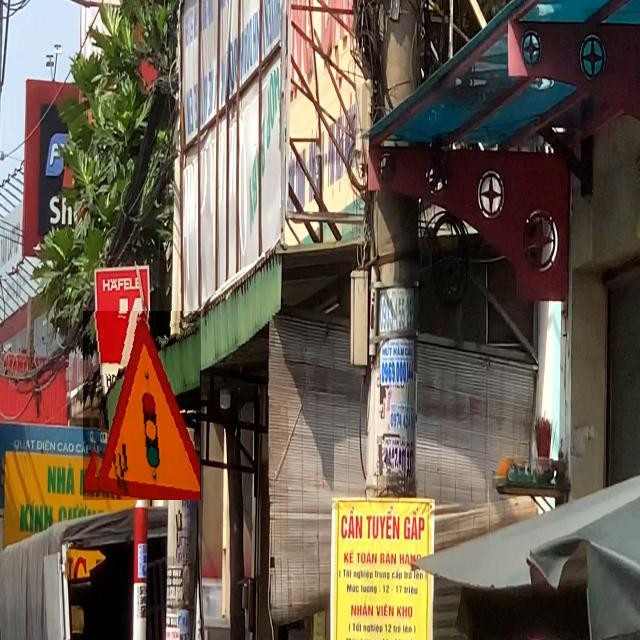W-209: (84, 311, 202, 500)
